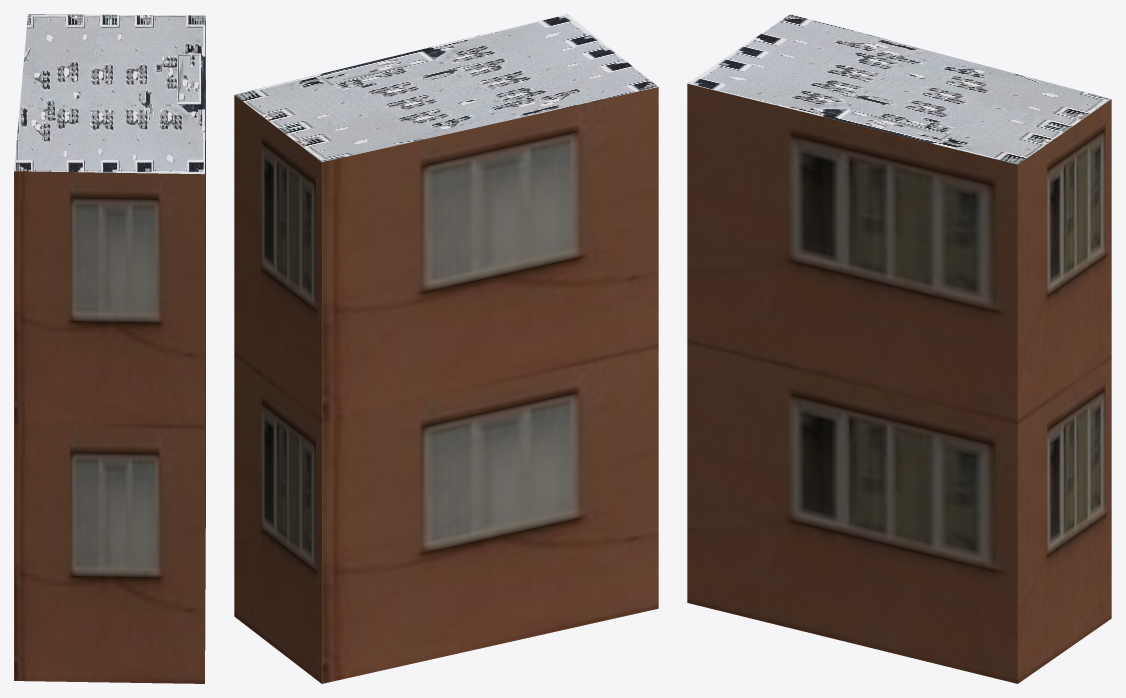
File: ResTex__685.fbx
3 renders of one model, left to right at view 1: azimuth 30°, elevation 25°; view 2: azimuth 150°, elevation 25°; view 3: azimuth 270°, elevation 25°, orthographic. The views are drawn at different scales.
Visible parts, largest first — view 1: CityEngineMaterial_20_m, CityEngineMaterial_m; view 2: CityEngineMaterial_20_m, CityEngineMaterial_m; view 3: CityEngineMaterial_20_m, CityEngineMaterial_m.
Boxes of the visible parts, left/top/right/bottom form: CityEngineMaterial_20_m: left=14, top=19, right=205, bottom=683; CityEngineMaterial_m: left=14, top=14, right=205, bottom=174; CityEngineMaterial_20_m: left=234, top=87, right=658, bottom=683; CityEngineMaterial_m: left=234, top=14, right=657, bottom=161; CityEngineMaterial_20_m: left=687, top=83, right=1111, bottom=683; CityEngineMaterial_m: left=687, top=14, right=1111, bottom=164.
Size of the model in its own units: 3.73 by 6 by 4.45.
2 materials, 2 textured.
